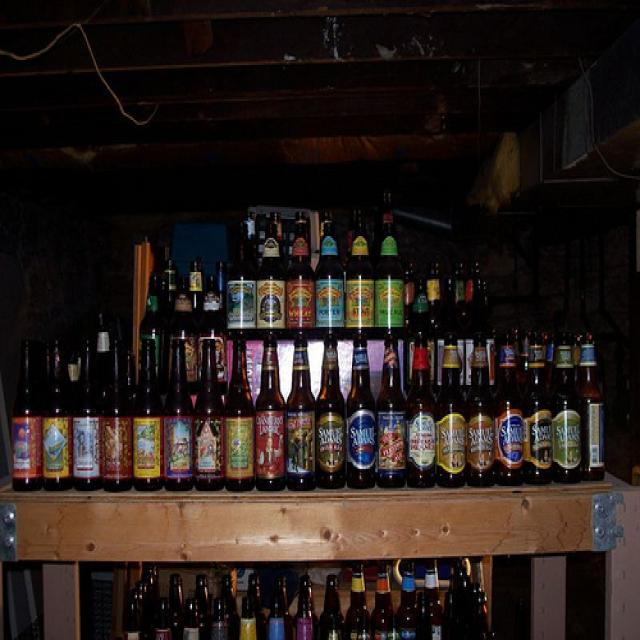Bottle: (537, 307, 589, 497), (327, 298, 398, 432), (401, 314, 448, 496), (501, 320, 551, 487), (11, 304, 49, 512), (156, 333, 196, 526), (440, 323, 489, 480), (314, 349, 365, 496), (345, 328, 391, 485), (39, 327, 81, 494), (142, 238, 202, 353), (221, 320, 265, 475), (376, 334, 422, 482), (78, 315, 114, 501), (286, 341, 327, 503), (387, 195, 436, 328), (469, 336, 515, 477), (190, 327, 232, 469), (350, 197, 390, 327), (127, 318, 158, 483), (250, 270, 327, 335), (257, 332, 292, 466), (98, 558, 150, 632), (195, 269, 256, 332), (337, 571, 387, 640), (436, 520, 464, 636), (393, 578, 440, 640), (187, 557, 224, 634), (291, 576, 328, 639), (251, 565, 280, 635), (164, 583, 196, 640)
